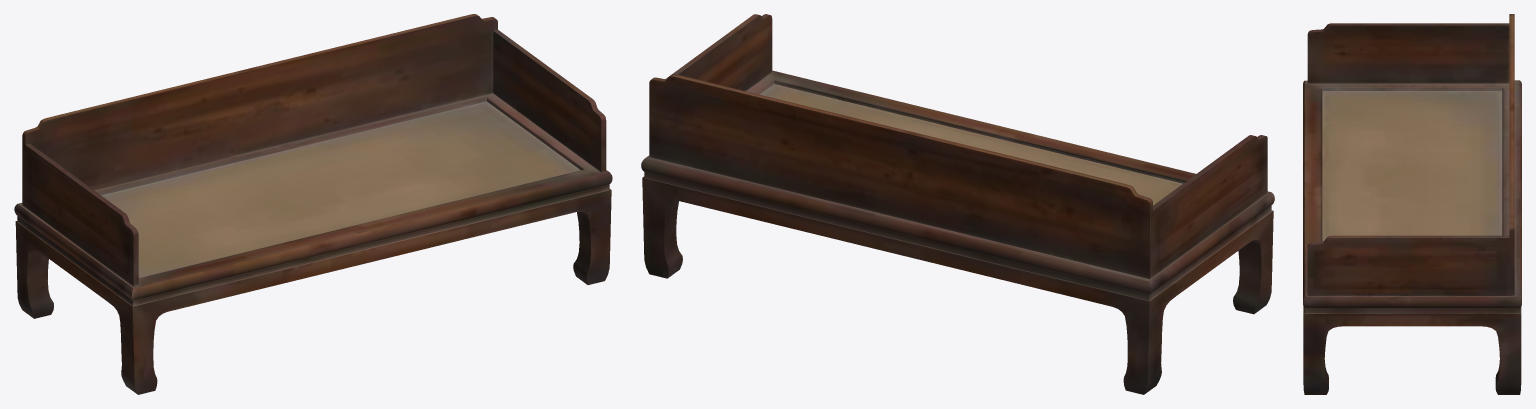
The model's file is sofa.glb.
3 views of the same model, side by side, from view 1: azimuth 30°, elevation 25°; view 2: azimuth 150°, elevation 25°; view 3: azimuth 270°, elevation 25° (orthographic). The views are drawn at different scales.
Parts seen in each view (by area): view 1: chinese_sofa; view 2: chinese_sofa; view 3: chinese_sofa.
Part boxes in pixels (<box>): chinese_sofa: <box>14,14,612,394</box>; chinese_sofa: <box>641,14,1274,394</box>; chinese_sofa: <box>1303,14,1521,394</box>.
Bounding box in the file's own units: 2.29 × 0.8599 × 0.9687.
Materials: 1 (1 with a texture image).
